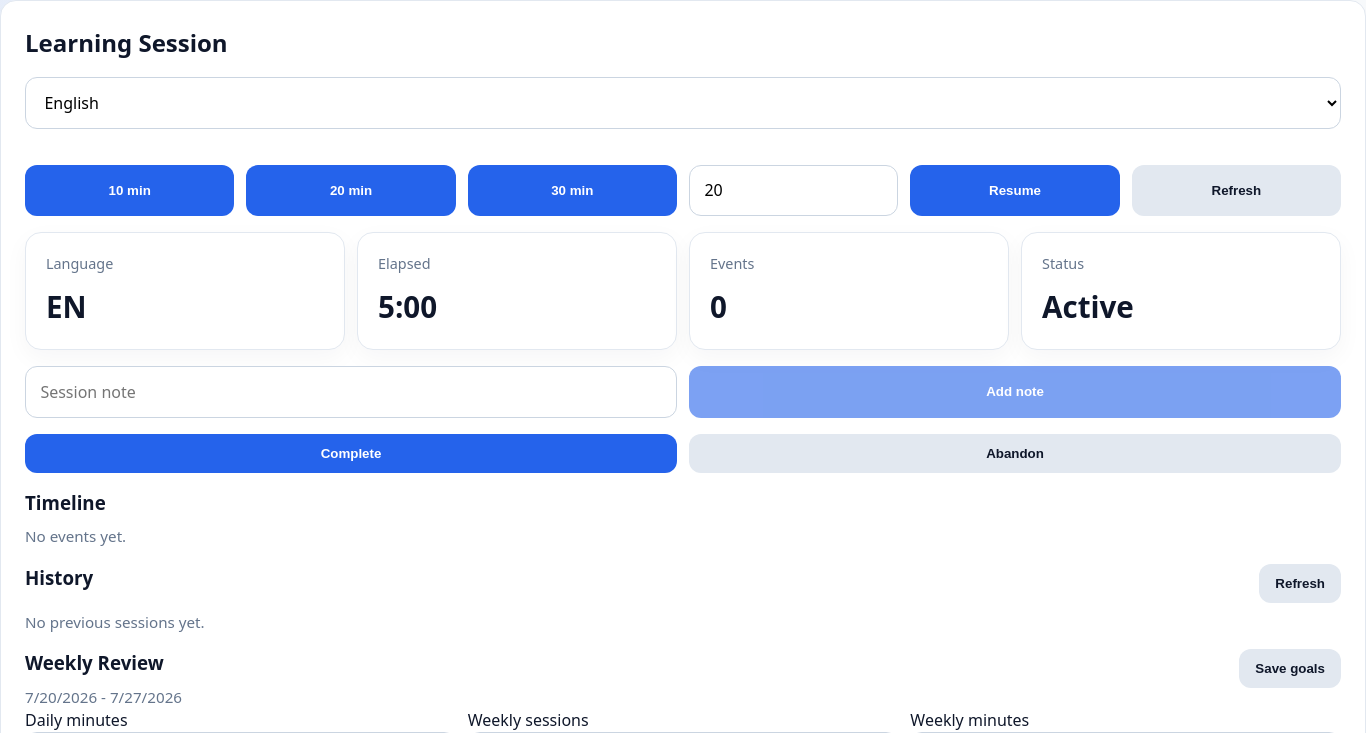
LearningSessionPanel.vue › reuses the stable completion idempotency key after a timeout retry
Click the button "Complete" at (351, 453), box [25, 434, 677, 473]
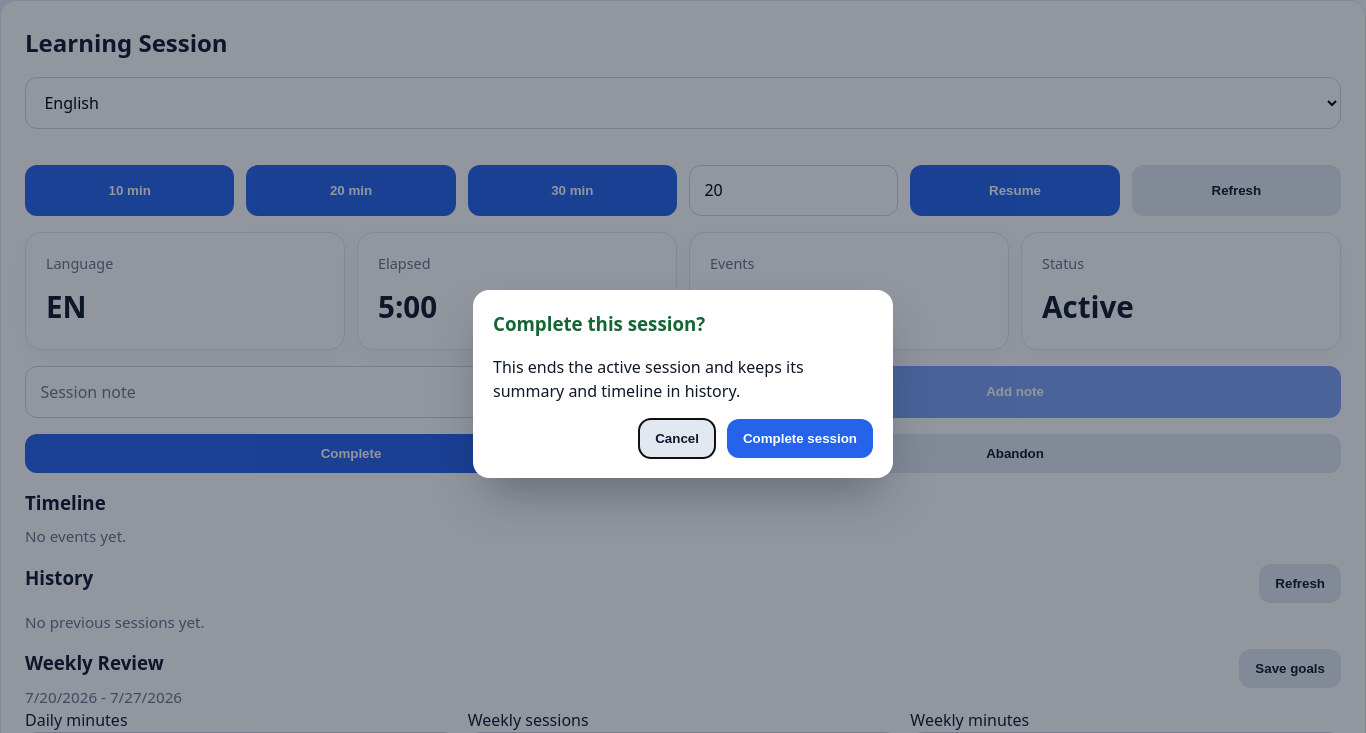
Click the button "Complete session" at (800, 438), box [727, 418, 873, 458]
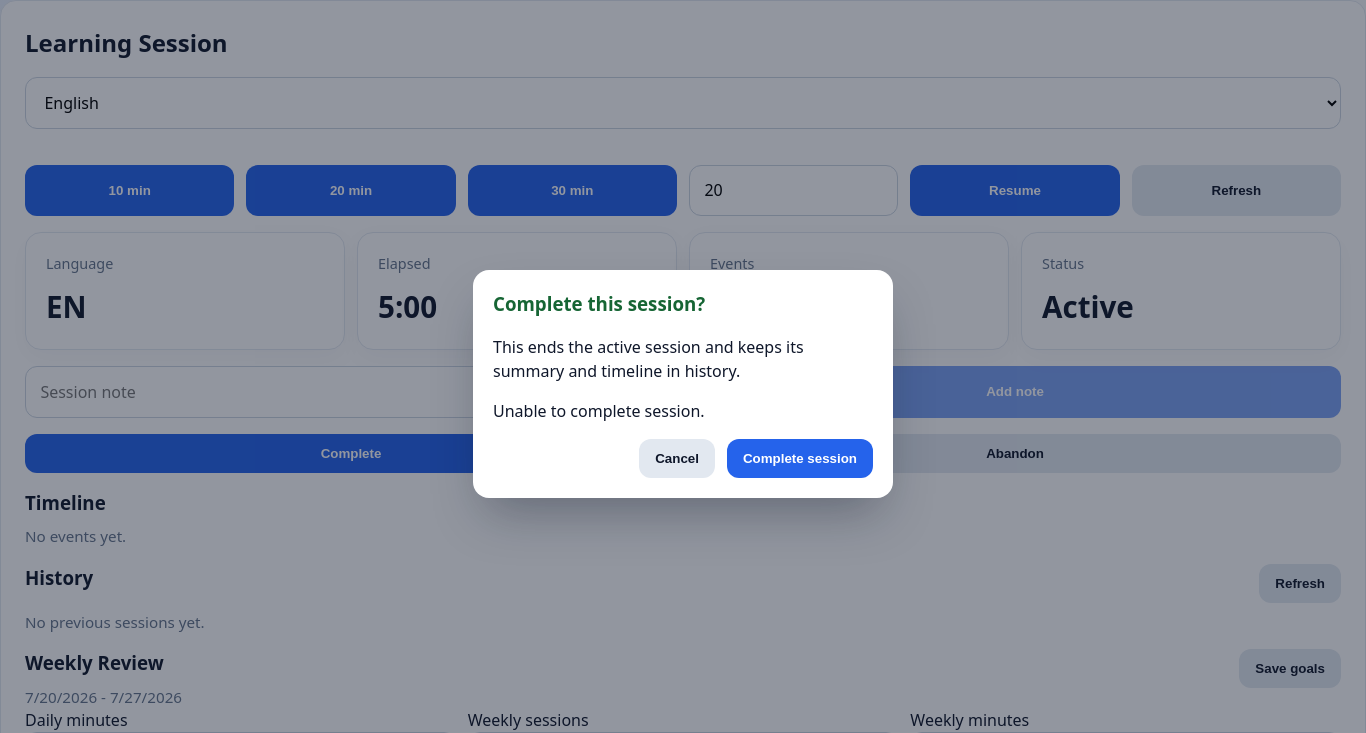
Click the button "Complete session" at (800, 458), box [727, 438, 873, 478]
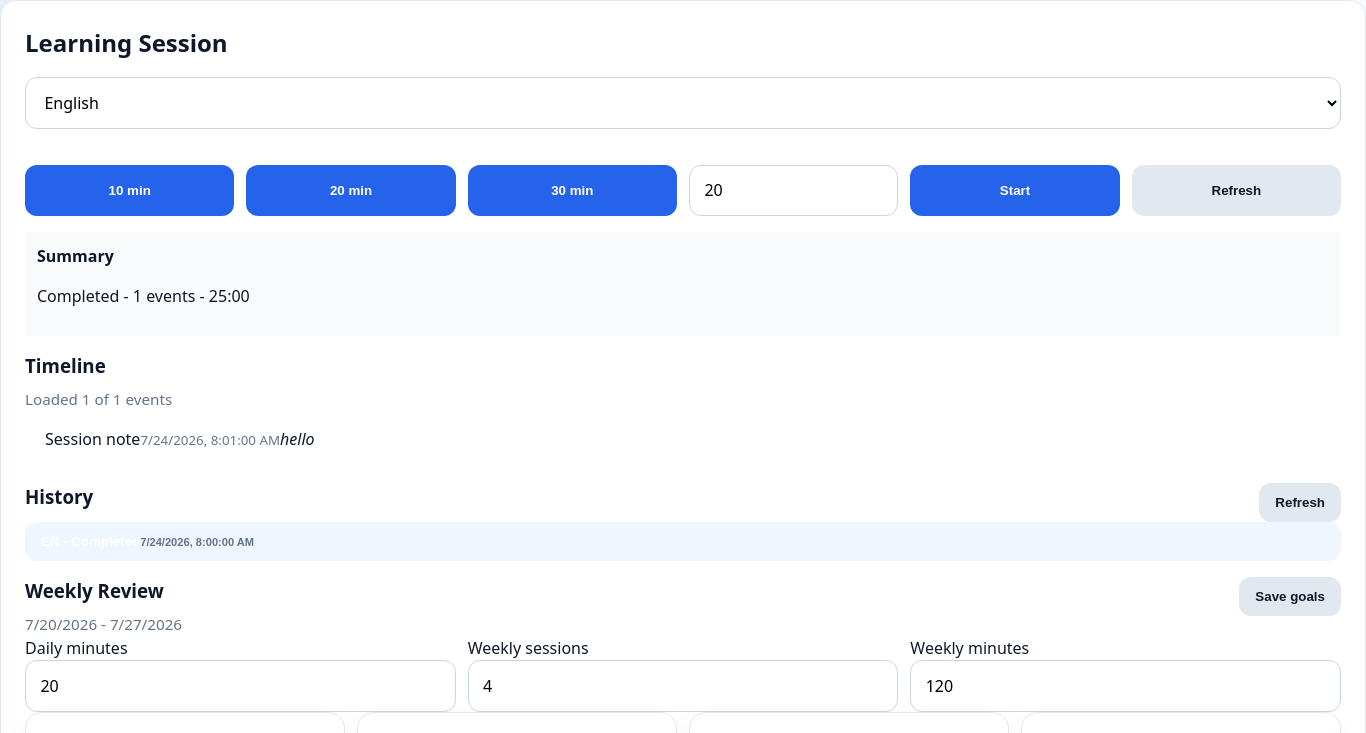
Expected: the text "Completed" is shown, [37, 285, 250, 307]
Expected: the text "25:00" is shown, [37, 285, 250, 307]
